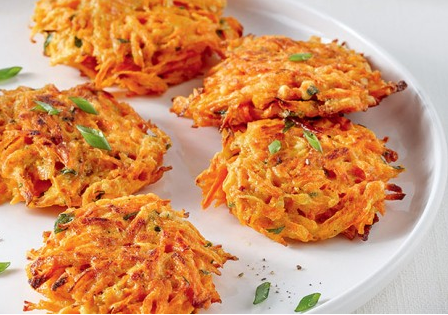croquettes de carottes: (209, 48, 386, 219)
